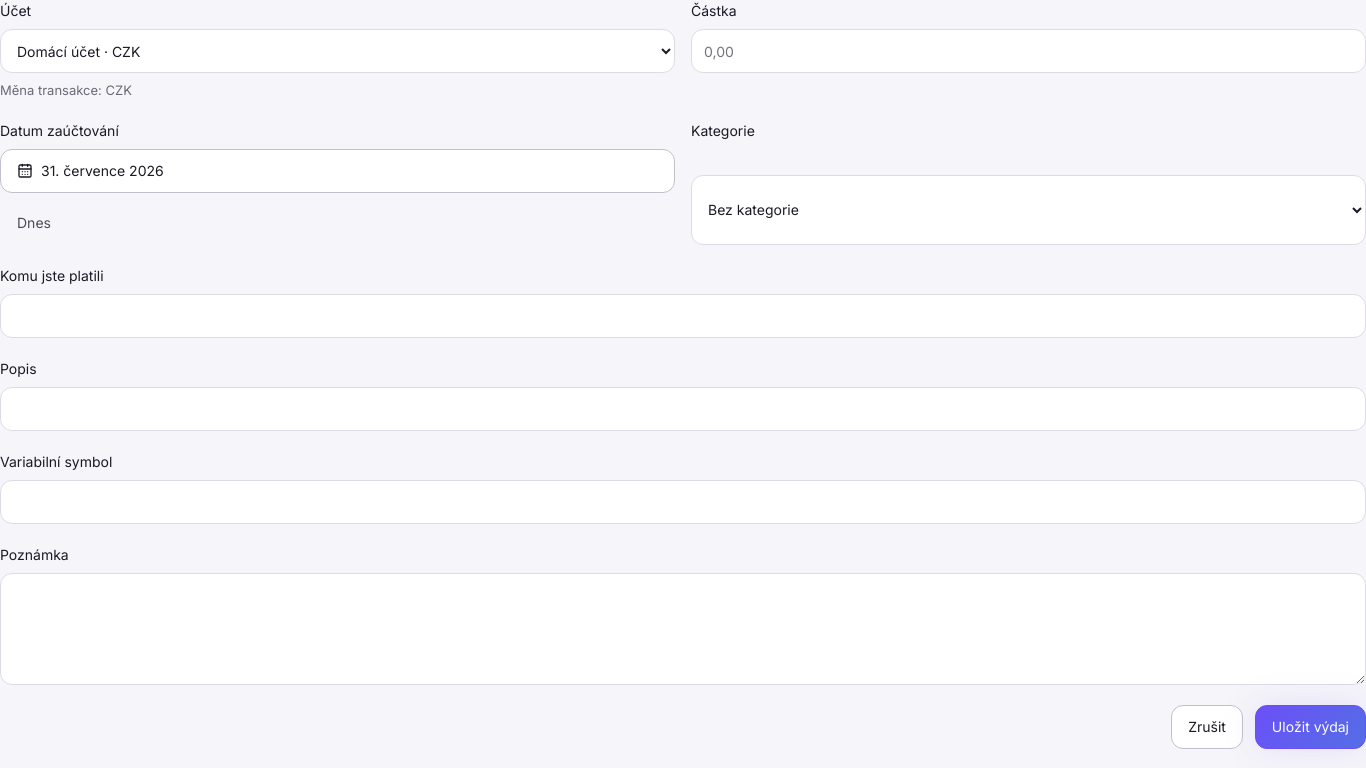
it: finance forms and responsive listing › uses an accessible shared calendar date picker
Click the button "31. července 2026" at x=102, y=171, box [0,149,675,193]
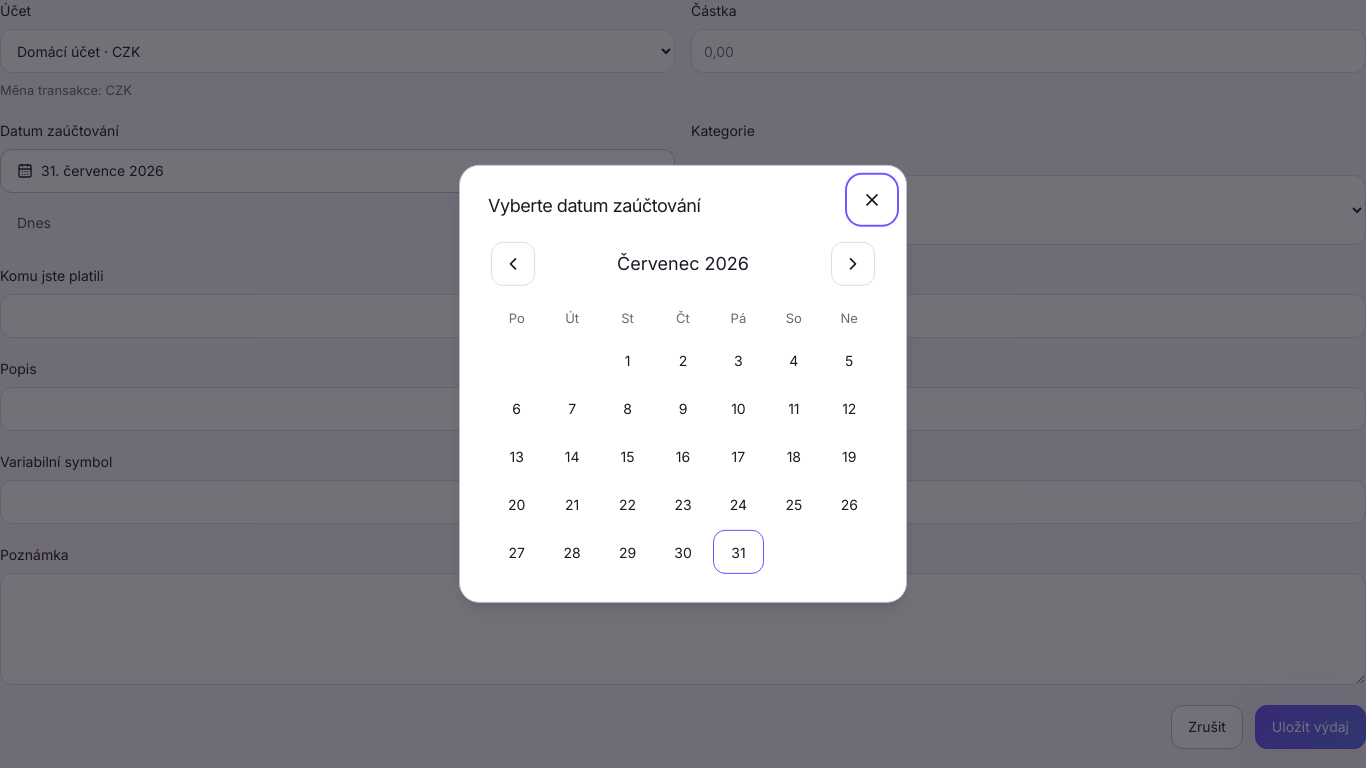
Expected: the table named "Kalendář: Datum zaúčtování" is shown, [491,302,875,574]
Expected: the button named "Předchozí měsíc" is shown, [491,242,535,286]
